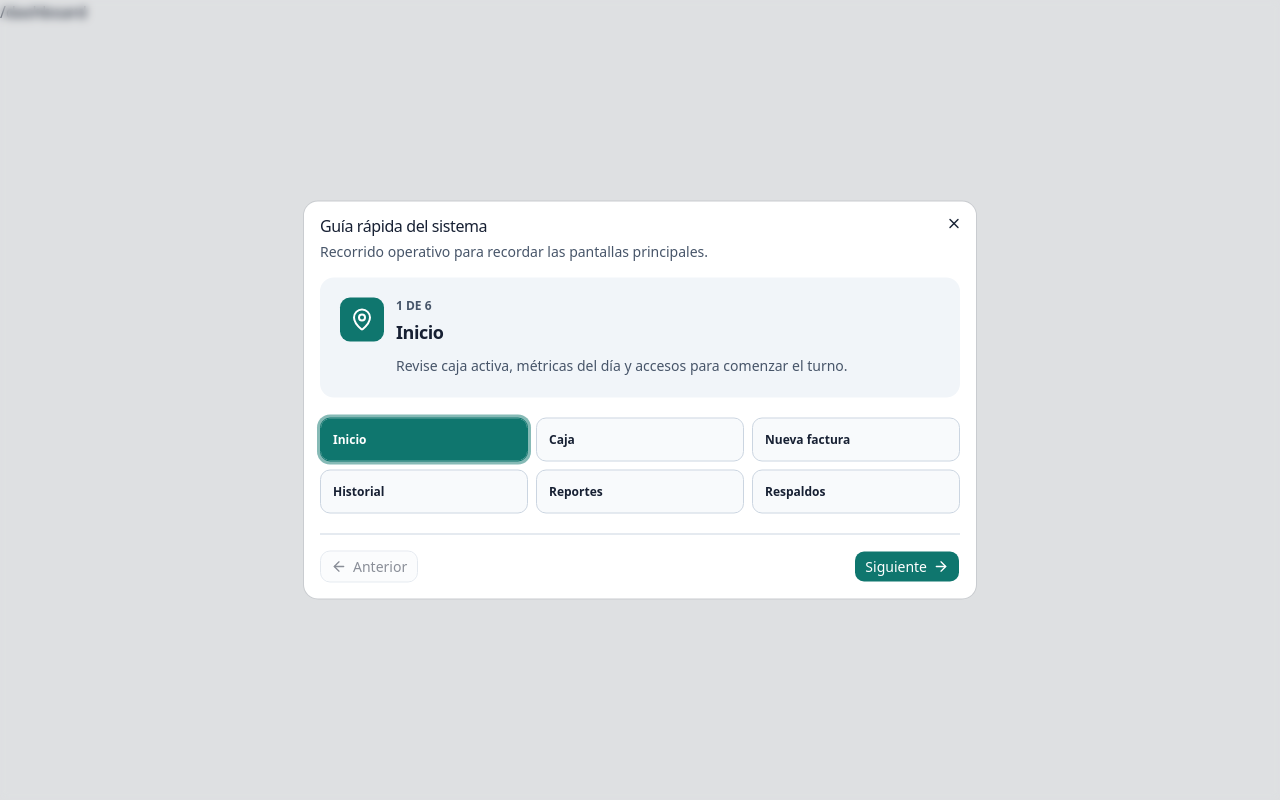
Test case: GuidedTour › uses the real dialog contract and navigates through the operational steps
Expected: the dialog "Guía rápida del sistema" is shown, top-left (304, 202), bottom-right (976, 598)
Expected: the text "1 de 6" is shown, top-left (396, 296), bottom-right (432, 314)
Click the button "Caja": (640, 440) top-left (536, 418), bottom-right (744, 462)
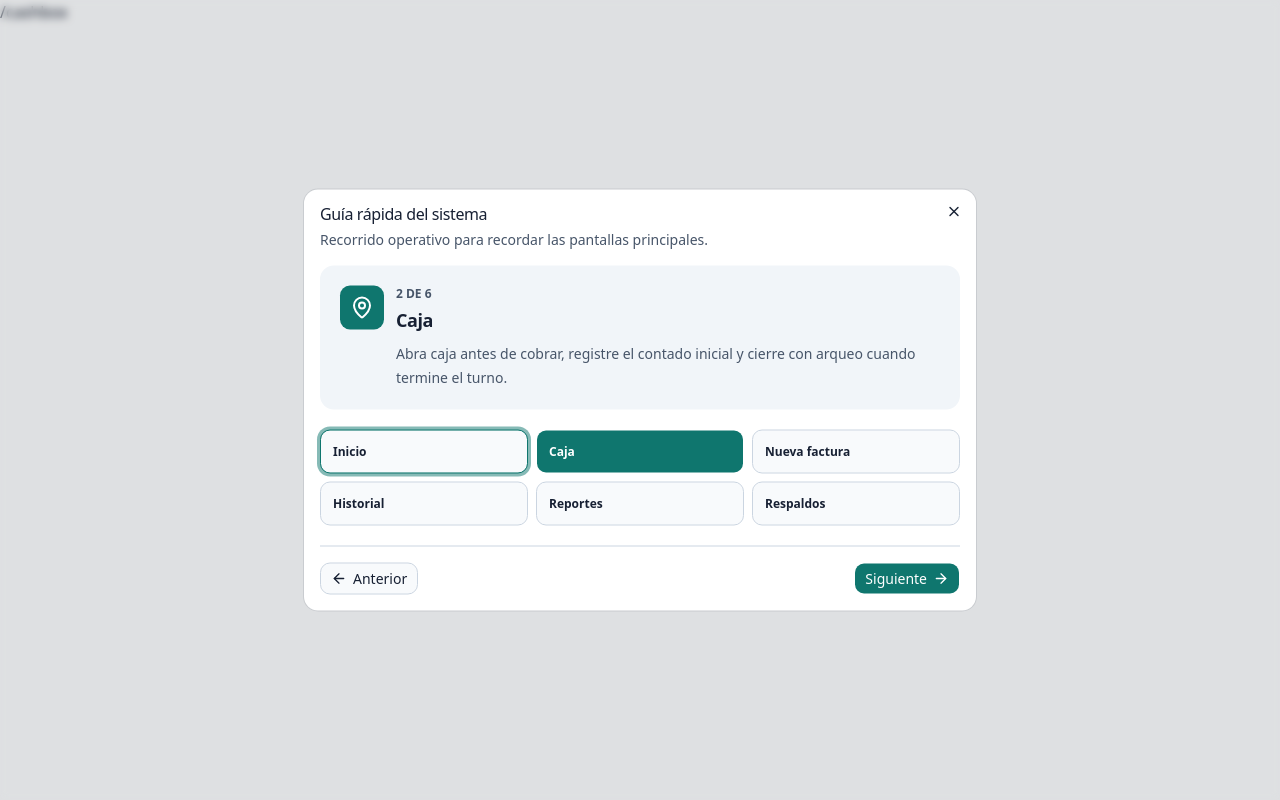
Expected: the text named "Ruta actual" reads "/cashbox", top-left (0, 1), bottom-right (68, 23)
Expected: the text "2 de 6" is shown, top-left (396, 284), bottom-right (432, 302)
